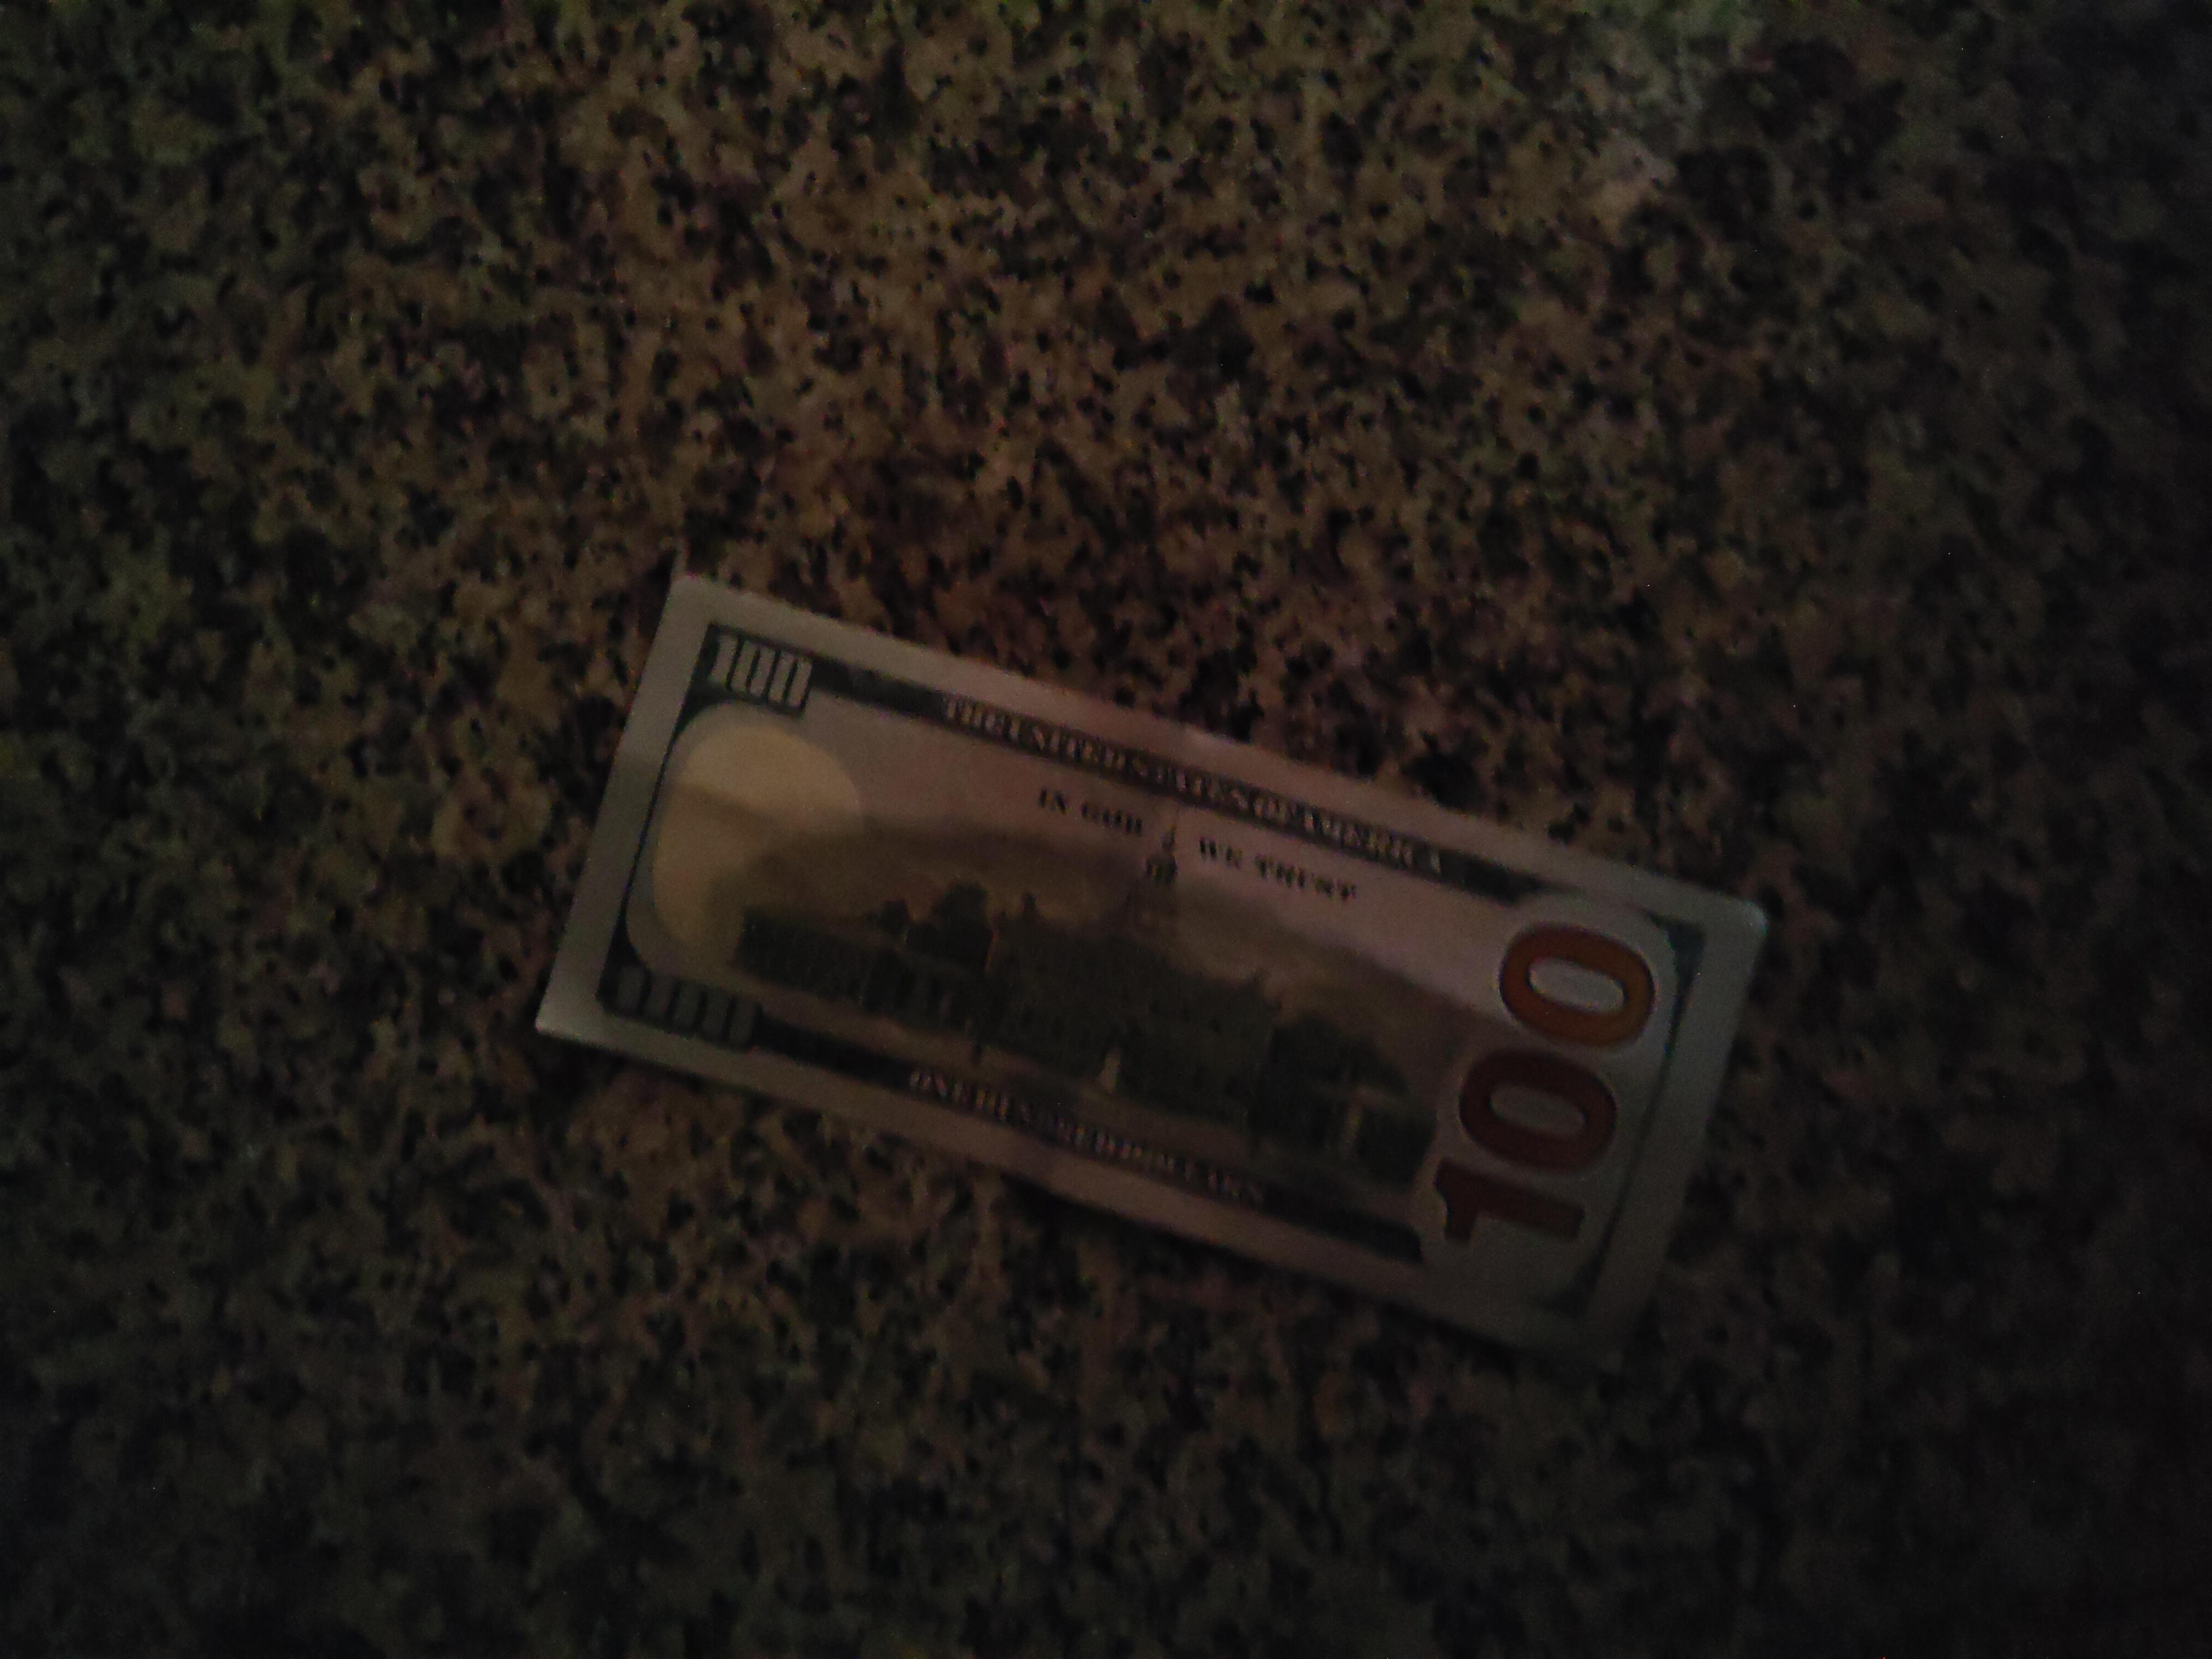HundredBill: (531, 572, 1768, 1368)
